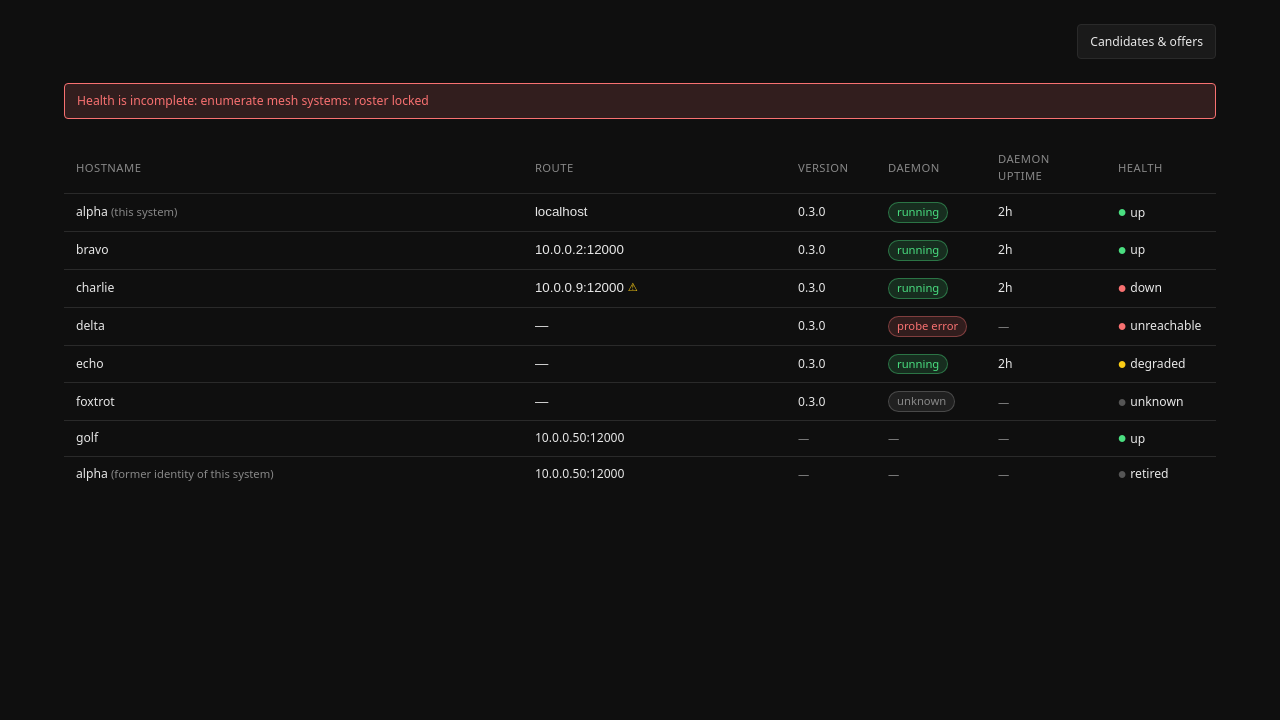
Scenario: /systems page › renders the local route without a warning and an empty LAN list sensibly
Check: the button "bravo" is shown, box [76, 241, 109, 258]
Click the button "localhost": (561, 212) [535, 204, 588, 219]
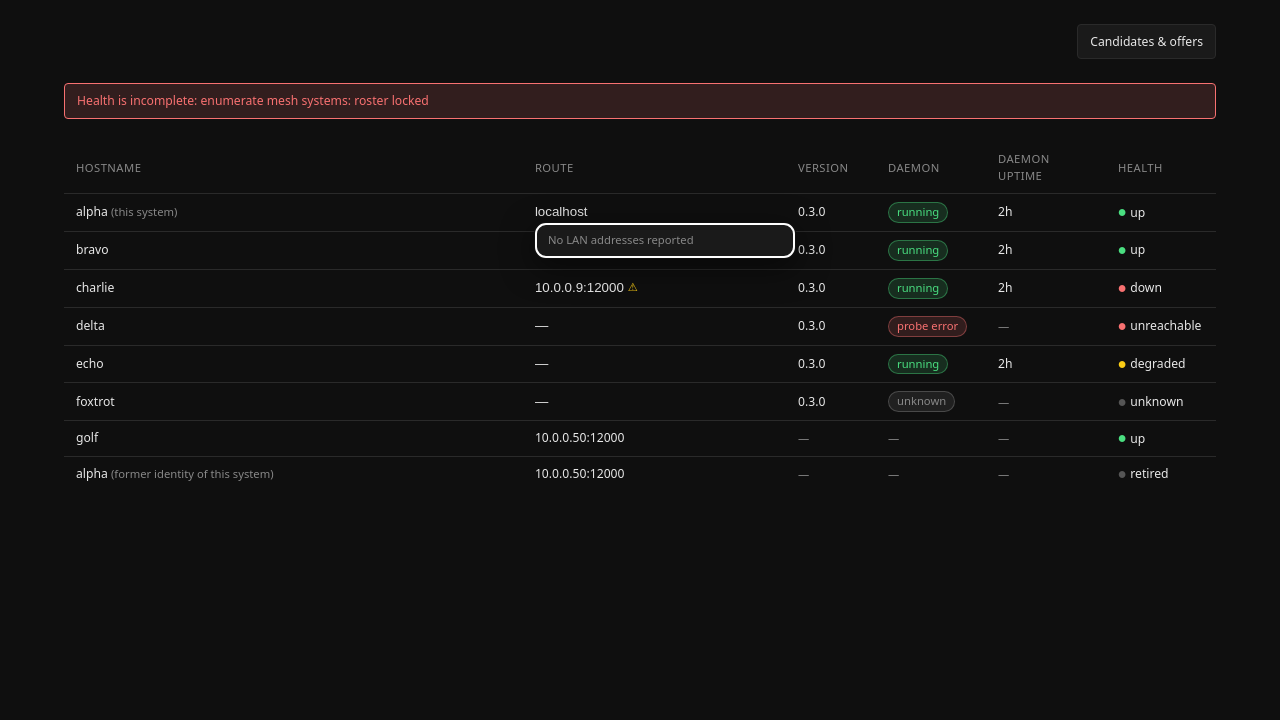
Check: the text "No LAN addresses reported" is shown, box [548, 232, 694, 247]
